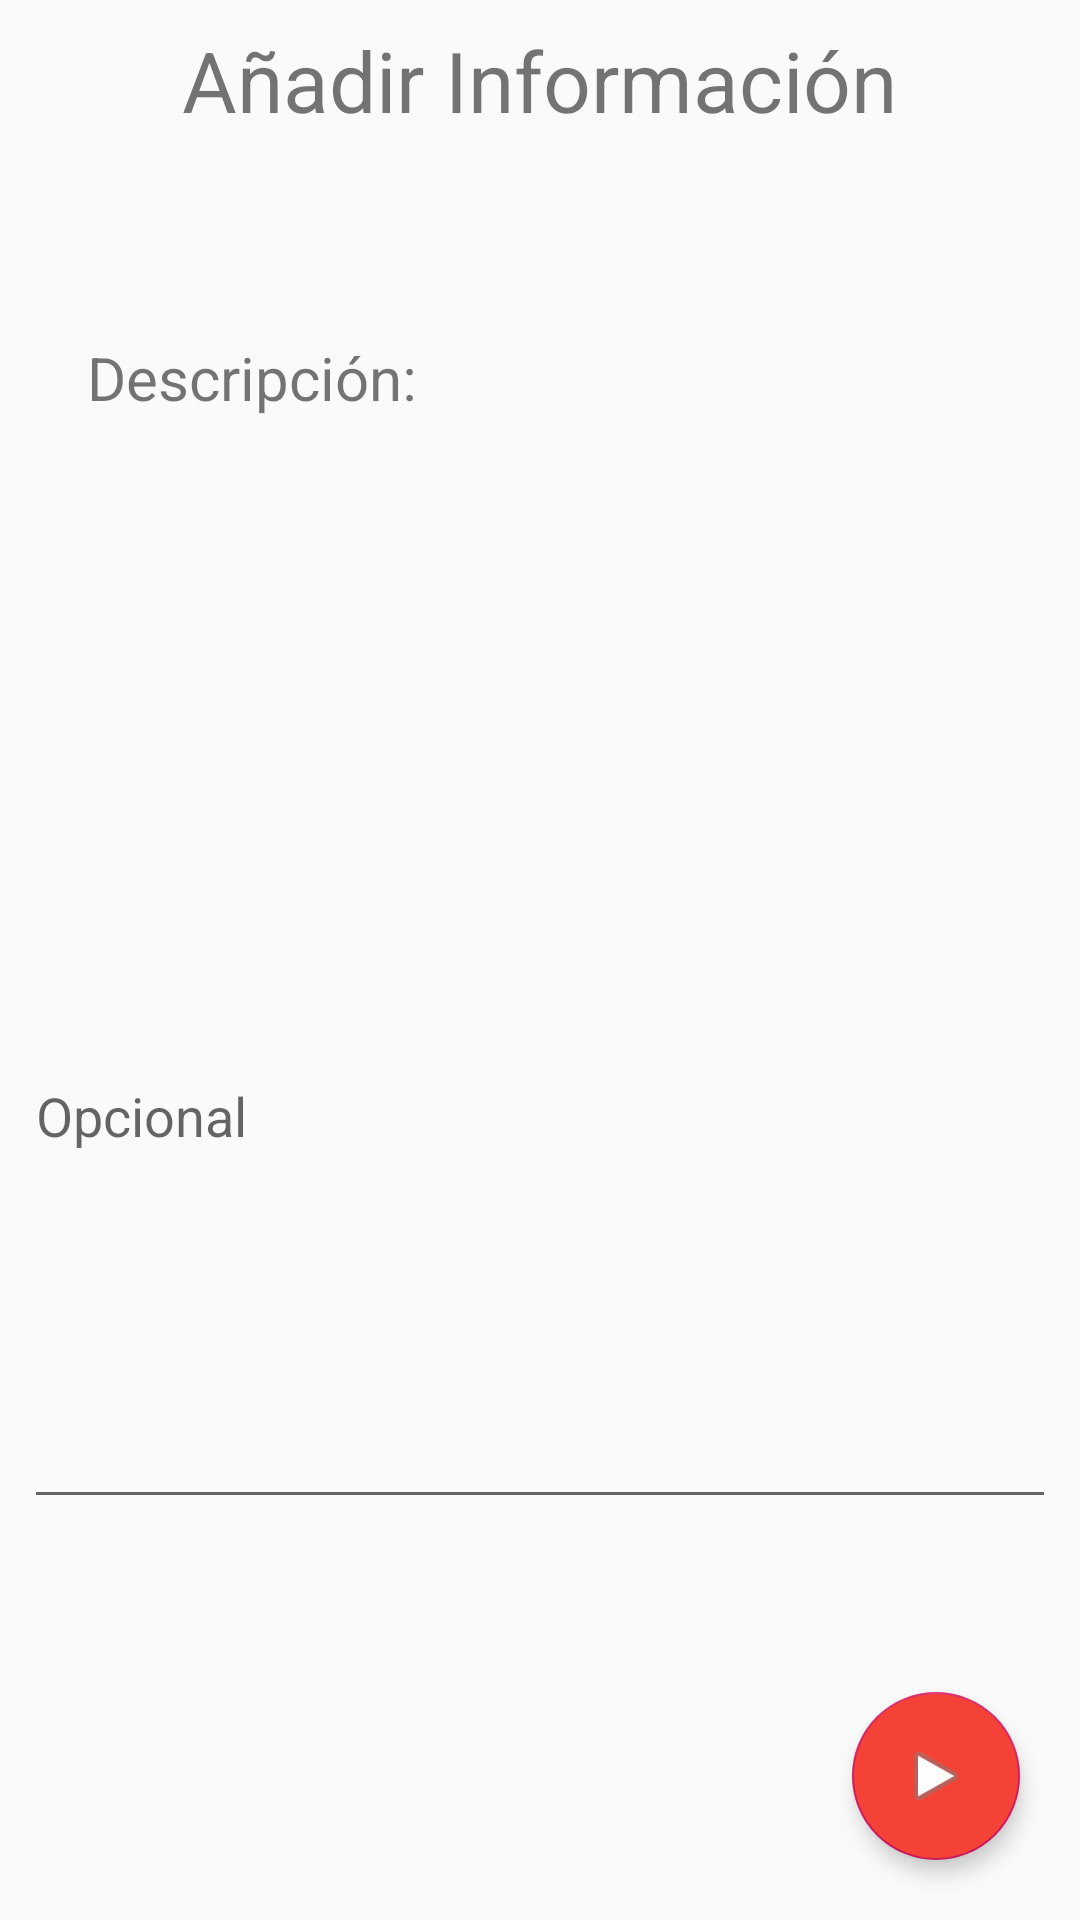

Locate icon controls on the screen. Image size 1080px x 1920px, boxes as [x1, y1, x2, y2].
play: [852, 1692, 1020, 1860]
